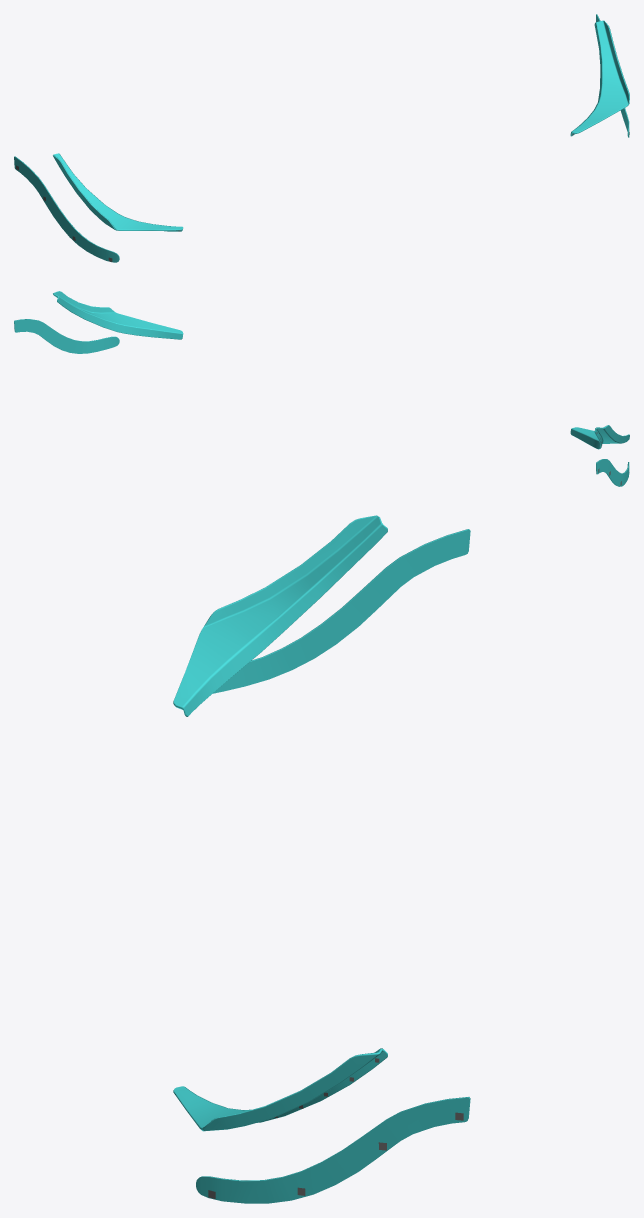
File: Car_Nissan_SkylineGTRVspecR34_1999_CanardsF_SetE.fbx
3 renders of one model, top to bottom at view 1: azimuth 30°, elevation 25°; view 2: azimuth 150°, elevation 25°; view 3: azimuth 270°, elevation 25°, orthographic. The views are drawn at different scales.
Parts seen in each view (by area): view 1: CanardsF 5; view 2: CanardsF 5; view 3: CanardsF 5.
Boxes of the visible parts, box(x1,y1,x2,y2) form: CanardsF 5: box(14, 14, 629, 262); CanardsF 5: box(14, 291, 629, 486); CanardsF 5: box(173, 515, 470, 1203).
Size of the model in its own units: 1.81 by 0.2401 by 0.3992.
